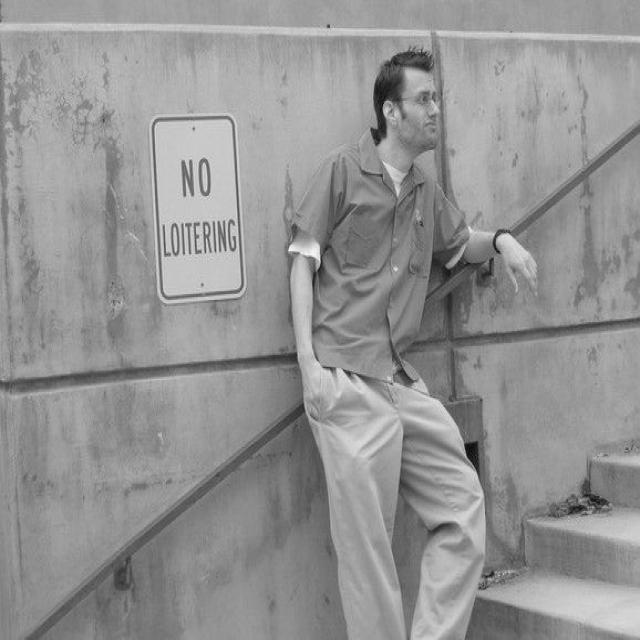loitering: (276, 32, 544, 640)
